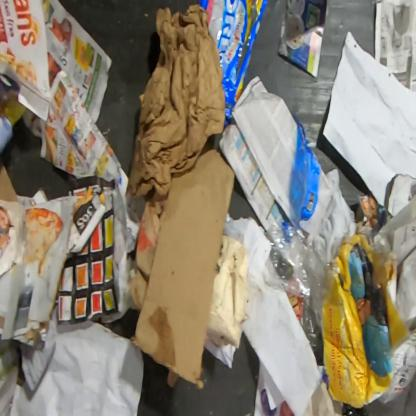cardboard: (130, 140, 235, 391), (319, 234, 409, 409), (205, 234, 250, 349), (127, 190, 166, 308), (166, 367, 180, 387)
rigid_plastic: (267, 114, 332, 367)
soft_plastic: (197, 0, 270, 132)
